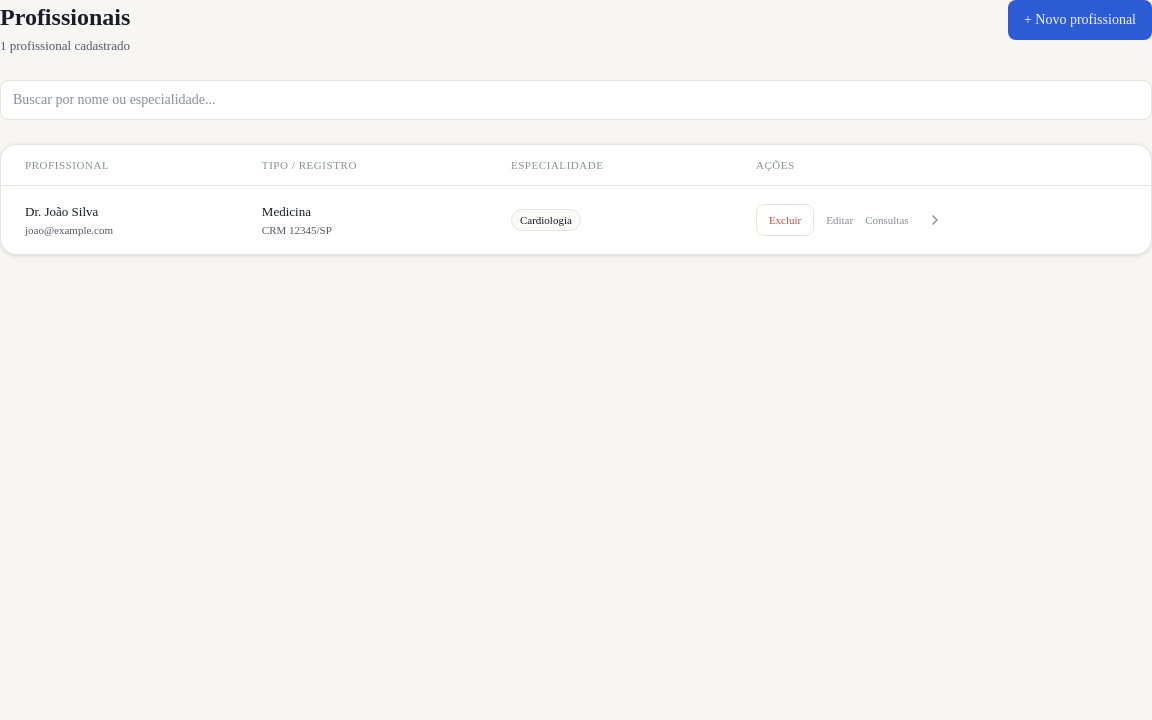
ProfessionalList (integration) › closes delete dialog when cancel is clicked
Expected: the table with test id "professional-list-table" is shown, [1,145,1151,254]
Click the button with test id "professional-delete-button-uuid-1": [785, 220] box [756,204,814,236]
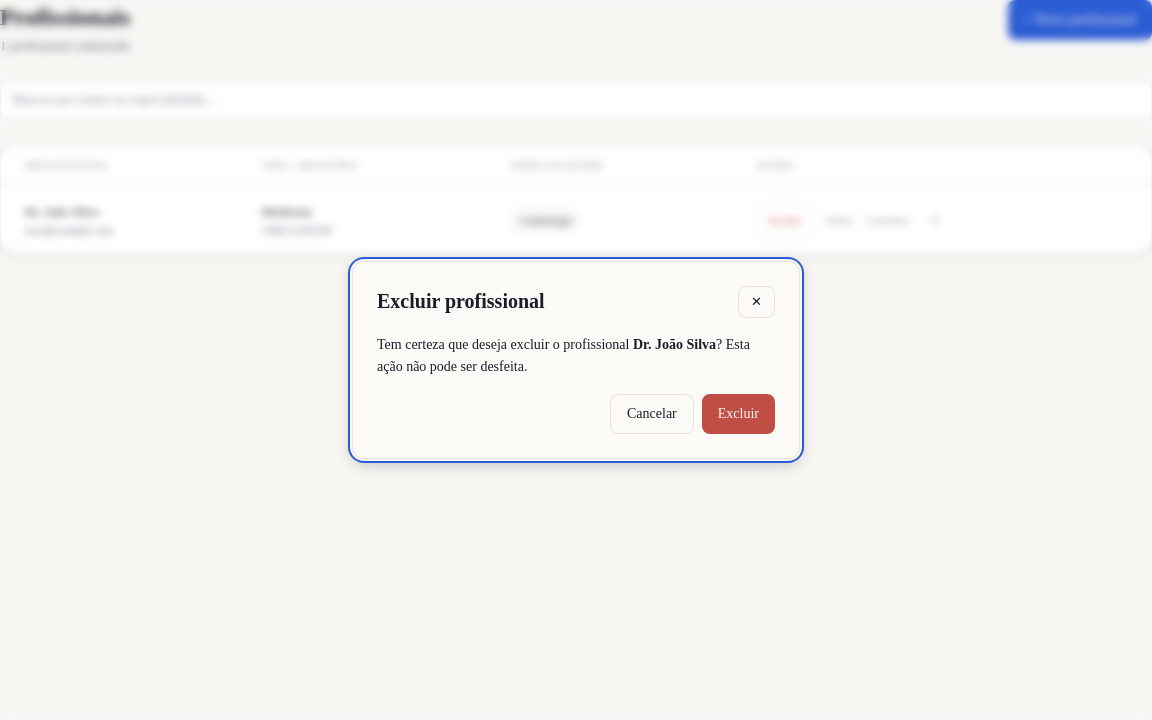
Now the button with test id "delete-professional-dialog-cancel" is shown
Click the button with test id "delete-professional-dialog-cancel": [652, 414] box [610,394,694,434]
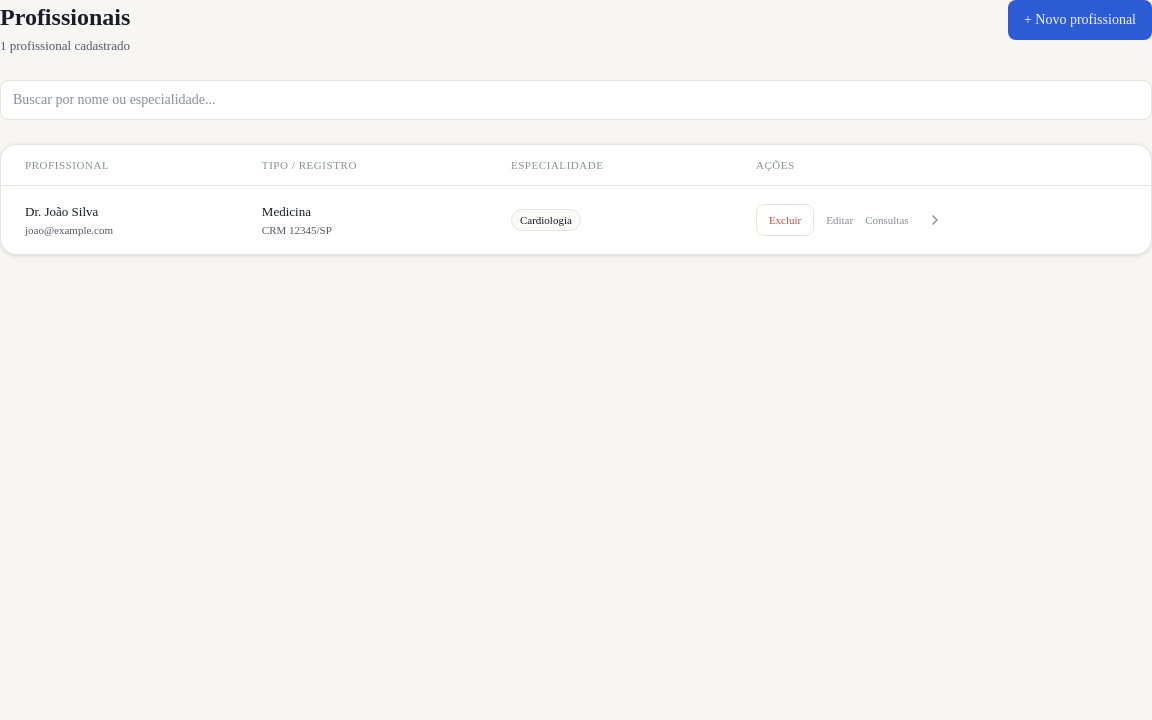
Now the button with test id "delete-professional-dialog-cancel" is gone
